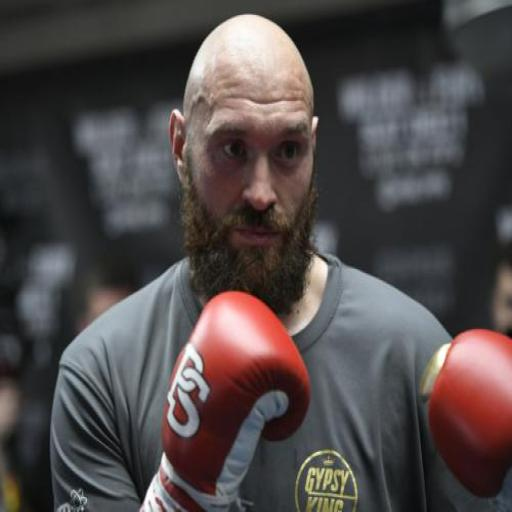boxing: (81, 86, 498, 512)
